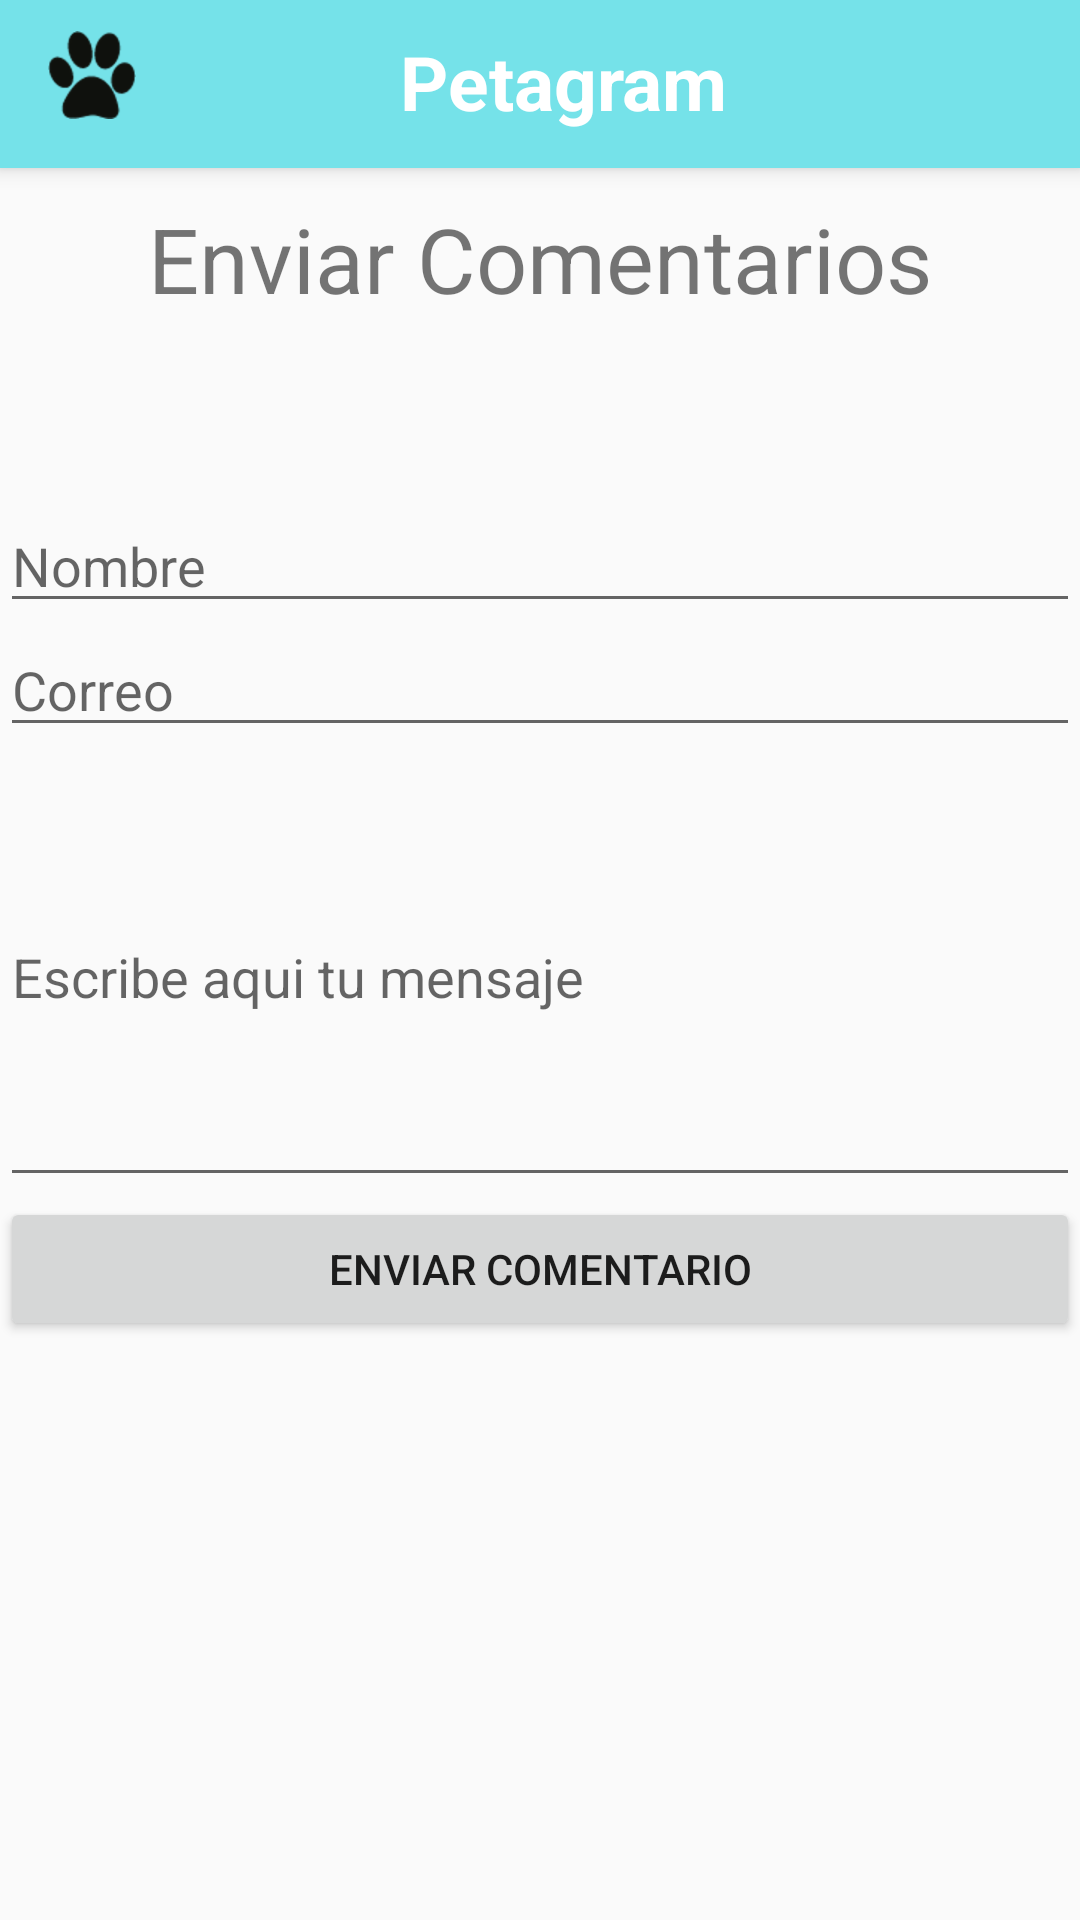

Where icons sit on this 1080x1920 app screen, as (x1, y1, x2, y2):
pata: (48, 31, 136, 119)
